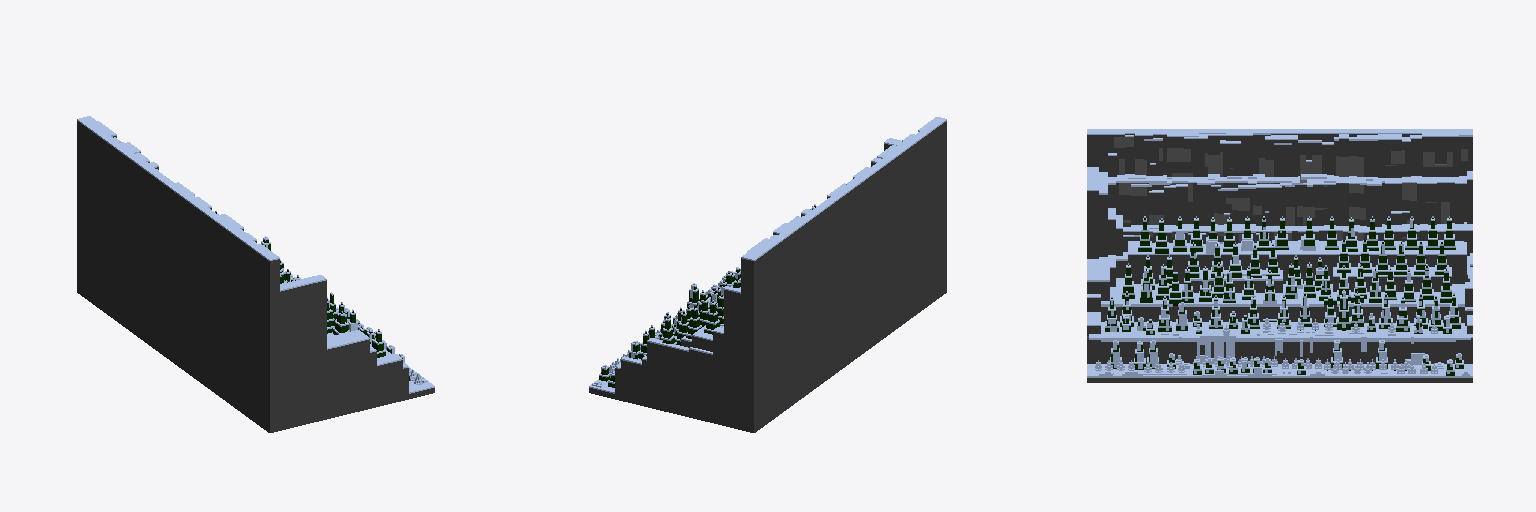
The picture shows the model from 3 angles: view 1: azimuth 30°, elevation 25°; view 2: azimuth 150°, elevation 25°; view 3: azimuth 270°, elevation 25°; orthographic projection.
Visible parts, largest first — view 1: object 1; view 2: object 1; view 3: object 1.
Boxes of the visible parts, x1=… form: object 1: x1=77, y1=116, x2=434, y2=432; object 1: x1=589, y1=117, x2=946, y2=432; object 1: x1=1087, y1=129, x2=1472, y2=382.
Bounding box in the file's own units: 12.7 × 12.7 × 25.6.
1 materials, 1 textured.